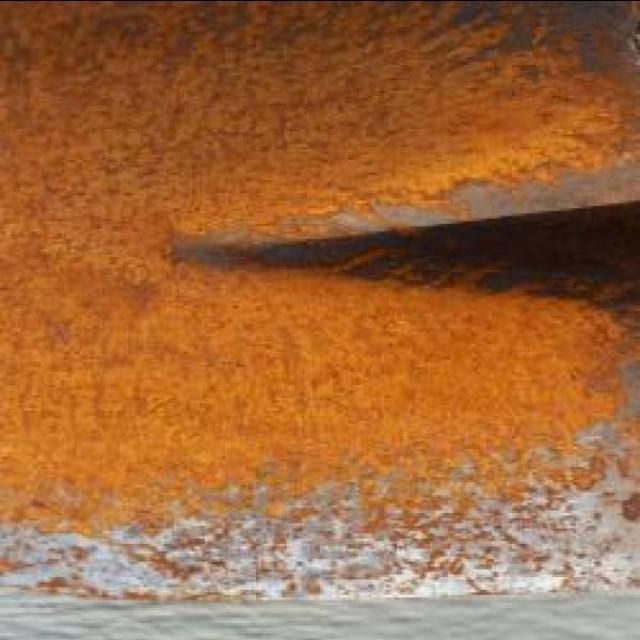Crack: (165, 195, 638, 322)
